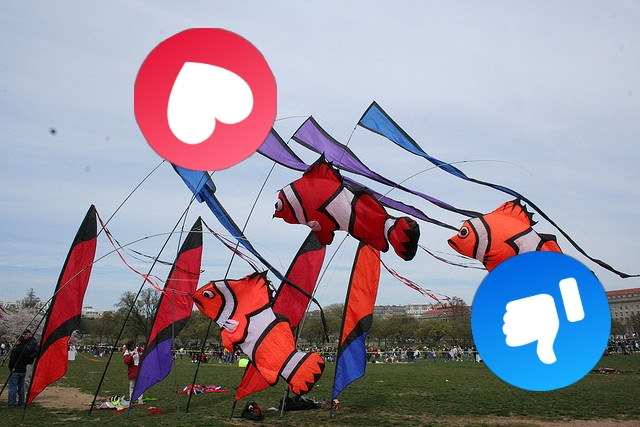like: (471, 251, 611, 391)
love: (134, 28, 277, 171)
